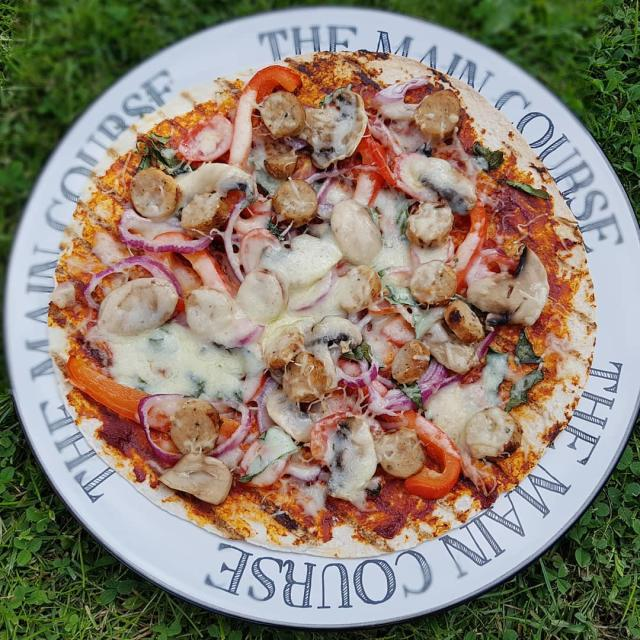pizza: (49, 51, 596, 557)
